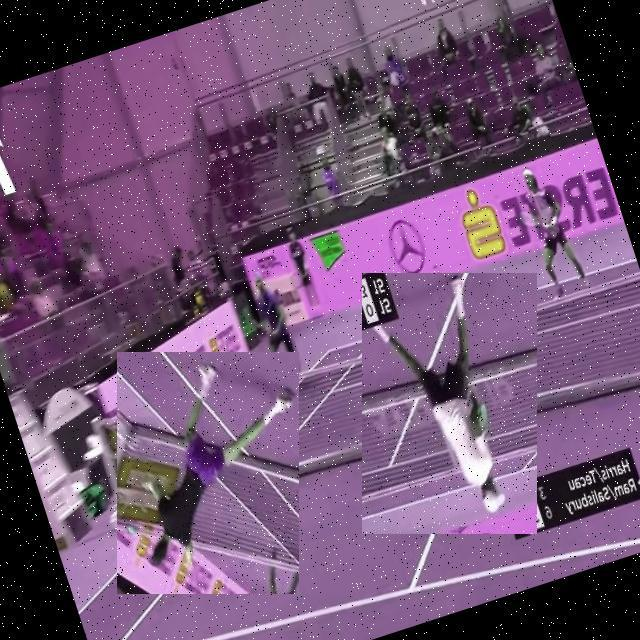player: (362, 274, 537, 536), (117, 352, 299, 594)
